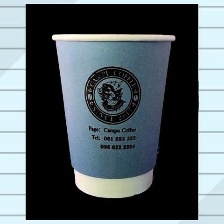paper_cup: (45, 27, 181, 202)
